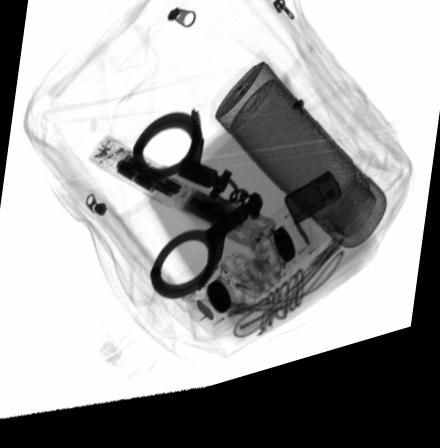Baton: (86, 140, 276, 266)
HandCuffs: (129, 120, 264, 311)
Lighter: (284, 188, 342, 244)
